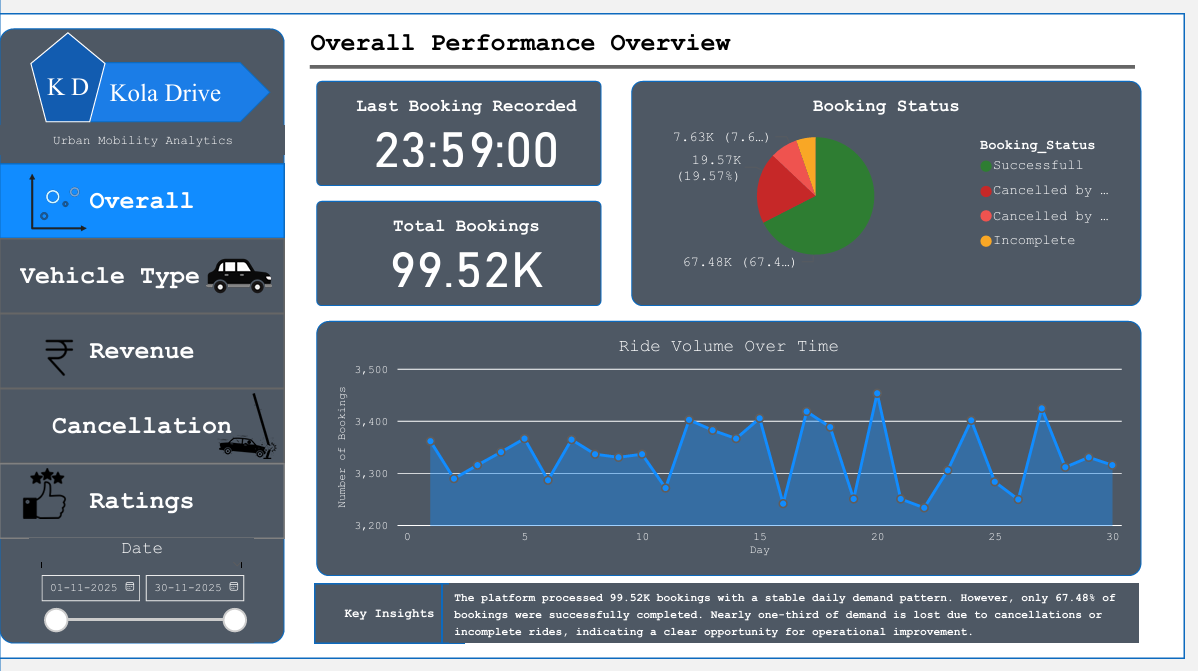

This screenshot's page, from the dashboard's own definition file:
{"tool":"powerbi","page":{"name":"Overall ","canvas":[1280,720],"ordinal":1},"visuals":[{"type":"shape","box":[0,0,1280,720],"z":0},{"type":"shape","box":[0,16,1264,688],"z":1000},{"type":"shape","box":[0,32,304,656],"z":2000},{"type":"shape","box":[97.2,67.8,192,64],"z":3000},{"type":"shape","box":[33.2,35.8,80,96],"z":4000},{"type":"shape","box":[0,176,304,80],"z":5000},{"type":"shape","box":[0.8,135.2,304,32],"z":6000},{"type":"shape","box":[0,256,304,80],"z":7000},{"type":"shape","box":[0,336,304,80],"z":8000},{"type":"shape","box":[0,416,304,80],"z":9000},{"type":"shape","box":[0,496,304,80],"z":10000},{"type":"image","box":[0,496,96,64],"z":11000},{"type":"image","box":[224,416,80,80],"z":12000},{"type":"image","box":[32,352,64,64],"z":13000},{"type":"image","box":[208,256,96,80],"z":14000},{"type":"image","box":[16,176,96,80],"z":15000},{"type":"shape","box":[330.9,57.4,880,32],"z":16000},{"type":"shape","box":[330.9,41.4,880,32],"z":17000},{"type":"shape","box":[330.9,89.4,304,144],"z":18000},{"type":"shape","box":[330.9,249.4,304,144],"z":19000},{"type":"slicer","title":"Date","fields":{"Values":["ola_bookings.Date"]},"box":[32,576,240,112],"z":20000},{"type":"card","title":"Total Bookings","fields":{"Values":["Count(ola_bookings.Booking_ID)"]},"box":[346.9,265.4,256,112],"z":21000},{"type":"shape","box":[666.9,89.4,544,304],"z":22000},{"type":"donutChart","title":"Booking Status ","fields":{"Y":["CountNonNull(ola_bookings.Booking_Status)"],"Category":["ola_bookings.Booking_Status"]},"box":[666.9,105.4,544,256],"z":23000},{"type":"shape","box":[330.9,409.4,880,272],"z":24000},{"type":"lineChart","title":"Ride Volume Over Time","fields":{"Y":["CountNonNull(ola_bookings.Booking_ID)"],"Category":["ola_bookings.Date.Variation.Date Hierarchy.Quarter","ola_bookings.Date.Variation.Date Hierarchy.Month","ola_bookings.Date.Variation.Date Hierarchy.Day"]},"box":[346.9,425.4,848,240],"z":25000},{"type":"card","title":"Last Booking Recorded","fields":{"Values":["Max(ola_bookings.Time)"]},"box":[346.9,105.4,256,112],"z":26000}]}

Visuals, with their boxes in screenshot pixels (x1, y1, x2, y2), scaled from the page's 1280x720 canvas onto the 1198x671 screenshot:
shape: {"x1": 0, "y1": 0, "x2": 1197, "y2": 670}
shape: {"x1": 0, "y1": 15, "x2": 1183, "y2": 656}
shape: {"x1": 0, "y1": 30, "x2": 285, "y2": 641}
shape: {"x1": 91, "y1": 63, "x2": 271, "y2": 123}
shape: {"x1": 31, "y1": 33, "x2": 106, "y2": 123}
shape: {"x1": 0, "y1": 164, "x2": 285, "y2": 239}
shape: {"x1": 1, "y1": 126, "x2": 285, "y2": 156}
shape: {"x1": 0, "y1": 239, "x2": 285, "y2": 313}
shape: {"x1": 0, "y1": 313, "x2": 285, "y2": 388}
shape: {"x1": 0, "y1": 388, "x2": 285, "y2": 462}
shape: {"x1": 0, "y1": 462, "x2": 285, "y2": 537}
image: {"x1": 0, "y1": 462, "x2": 90, "y2": 522}
image: {"x1": 210, "y1": 388, "x2": 285, "y2": 462}
image: {"x1": 30, "y1": 328, "x2": 90, "y2": 388}
image: {"x1": 195, "y1": 239, "x2": 285, "y2": 313}
image: {"x1": 15, "y1": 164, "x2": 105, "y2": 239}
shape: {"x1": 310, "y1": 53, "x2": 1133, "y2": 83}
shape: {"x1": 310, "y1": 39, "x2": 1133, "y2": 68}
shape: {"x1": 310, "y1": 83, "x2": 594, "y2": 218}
shape: {"x1": 310, "y1": 232, "x2": 594, "y2": 367}
"Date" slicer: {"x1": 30, "y1": 537, "x2": 255, "y2": 641}
"Total Bookings" card: {"x1": 325, "y1": 247, "x2": 564, "y2": 352}
shape: {"x1": 624, "y1": 83, "x2": 1133, "y2": 367}
"Booking Status " donutChart: {"x1": 624, "y1": 98, "x2": 1133, "y2": 337}
shape: {"x1": 310, "y1": 382, "x2": 1133, "y2": 635}
"Ride Volume Over Time" lineChart: {"x1": 325, "y1": 396, "x2": 1118, "y2": 620}
"Last Booking Recorded" card: {"x1": 325, "y1": 98, "x2": 564, "y2": 203}
